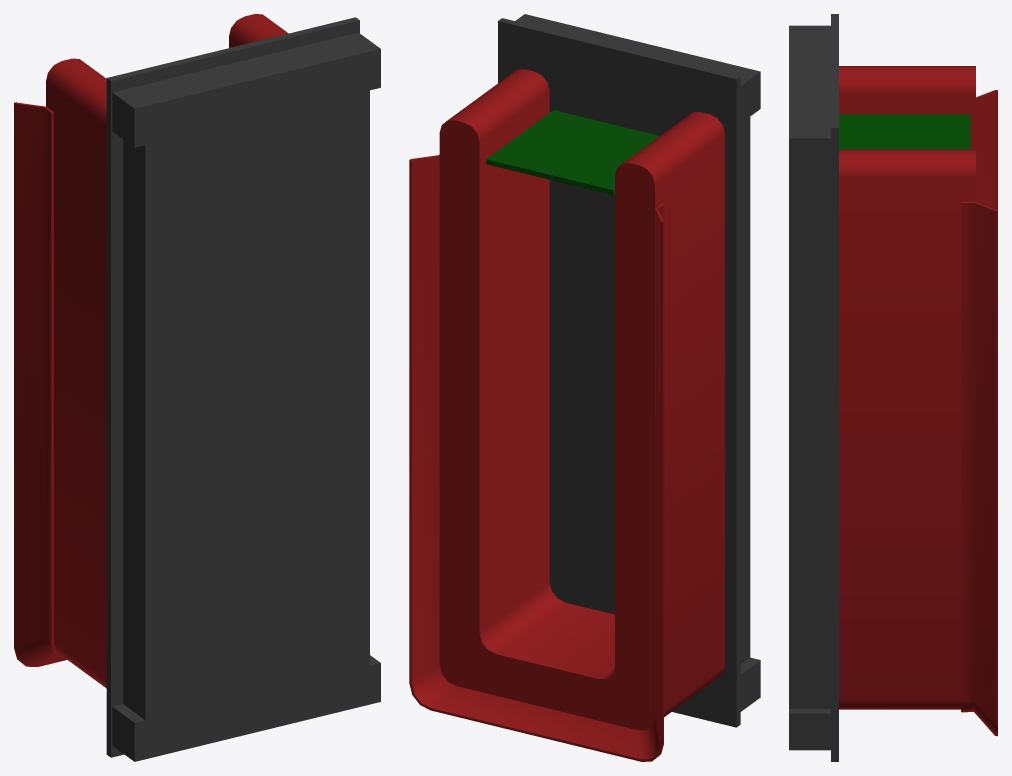
Rendered from TenderWagon_01_LOD2.fbx.
3 views of the same model, side by side, from view 1: azimuth 30°, elevation 25°; view 2: azimuth 150°, elevation 25°; view 3: azimuth 270°, elevation 25° (orthographic). The views are drawn at different scales.
Parts seen in each view (by area): view 1: TenderWagon_01_LOD2; view 2: TenderWagon_01_LOD2; view 3: TenderWagon_01_LOD2.
Boxes of the visible parts, x1=… form: TenderWagon_01_LOD2: x1=14, y1=14, x2=380, y2=761; TenderWagon_01_LOD2: x1=409, y1=14, x2=760, y2=761; TenderWagon_01_LOD2: x1=789, y1=14, x2=997, y2=761.
Size of the model in its own units: 3.18 by 7.78 by 2.32.
